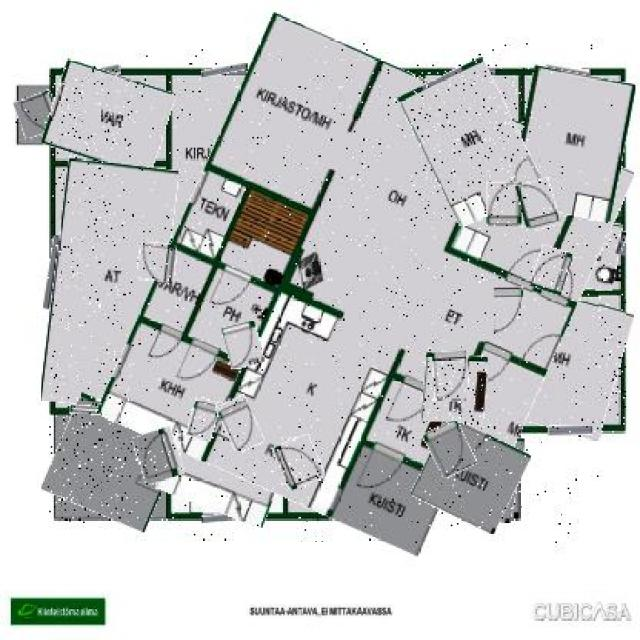door: (428, 421, 474, 477), (136, 429, 182, 482), (277, 437, 321, 489), (220, 397, 260, 451), (518, 178, 558, 230), (15, 92, 60, 137), (223, 322, 263, 368), (532, 248, 571, 294), (434, 352, 468, 402), (486, 182, 522, 226), (138, 243, 176, 282), (496, 286, 526, 332), (188, 400, 218, 440)
window: (46, 236, 62, 310), (69, 406, 154, 417), (545, 64, 589, 78), (548, 424, 592, 436), (326, 514, 382, 523), (200, 66, 248, 76), (202, 512, 238, 523), (325, 68, 380, 75), (92, 66, 120, 79), (617, 231, 626, 254), (450, 71, 496, 75)
zone: (132, 43, 598, 543), (48, 162, 170, 410), (488, 289, 626, 434), (411, 65, 532, 222), (514, 70, 629, 218), (48, 402, 175, 524), (163, 400, 292, 518), (48, 66, 170, 169), (417, 423, 525, 526), (418, 426, 522, 520), (216, 323, 290, 406), (214, 242, 288, 324), (423, 354, 488, 424), (566, 220, 620, 291), (168, 326, 214, 406), (168, 242, 212, 318)
